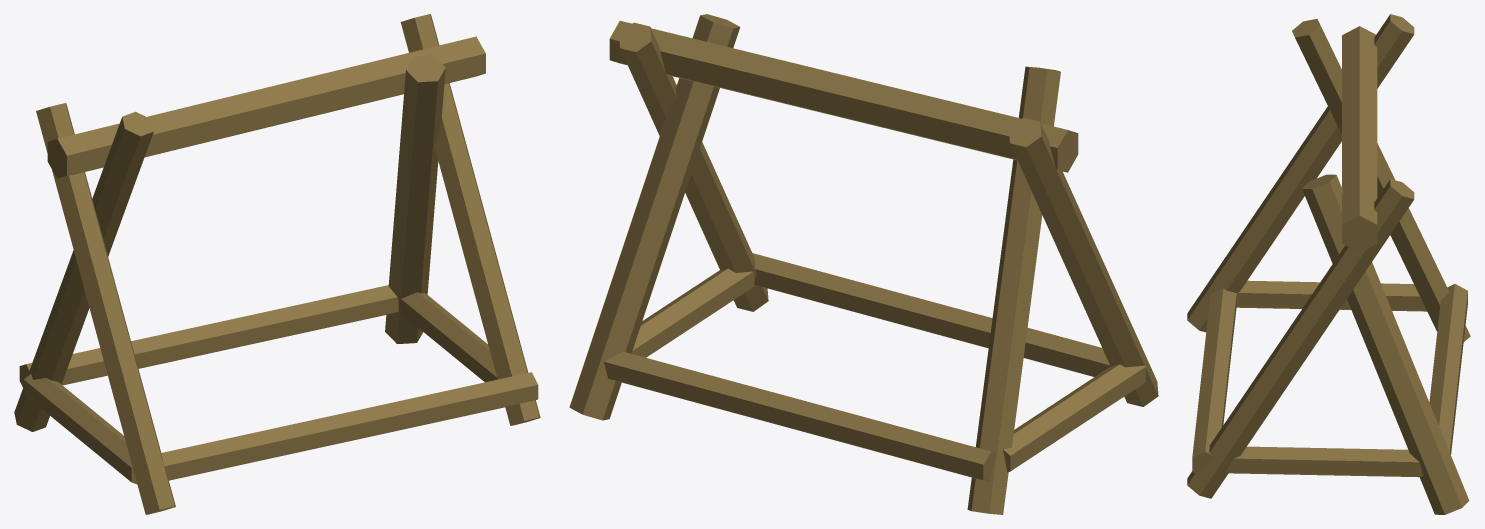
Rendered from tent_unfinished.glb.
3 views of the same model, side by side, from view 1: azimuth 30°, elevation 25°; view 2: azimuth 150°, elevation 25°; view 3: azimuth 270°, elevation 25° (orthographic). The views are drawn at different scales.
Visible parts, largest first — view 1: Cylinder.011, Cylinder.009, Cylinder.014, Cylinder.010, Cylinder.012, Cylinder.015, Cylinder.004, Cylinder.013, Cylinder.008; view 2: Cylinder.011, Cylinder.012, Cylinder.004, Cylinder.015, Cylinder.009, Cylinder.014, Cylinder.010, Cylinder.013, Cylinder.008; view 3: Cylinder.012, Cylinder.010, Cylinder.009, Cylinder.011, Cylinder.004, Cylinder.008, Cylinder.014, Cylinder.015, Cylinder.013.
Part boxes in pixels (x1,y1,x2,y2): Cylinder.011: (47,36,485,178); Cylinder.009: (36,103,175,514); Cylinder.014: (161,372,538,480); Cylinder.010: (400,14,540,425); Cylinder.012: (385,55,445,343); Cylinder.015: (19,285,398,387); Cylinder.004: (14,111,153,431); Cylinder.013: (24,374,137,484); Cylinder.008: (398,292,497,382); Cylinder.011: (609,20,1078,172); Cylinder.012: (569,14,740,420); Cylinder.004: (967,66,1060,514); Cylinder.015: (604,351,996,482); Cylinder.009: (1009,118,1158,406); Cylinder.014: (752,253,1110,376); Cylinder.010: (619,22,768,311); Cylinder.013: (1003,364,1145,472); Cylinder.008: (631,268,754,357); Cylinder.012: (1302,174,1469,514); Cylinder.010: (1187,179,1414,498); Cylinder.009: (1187,14,1414,332); Cylinder.011: (1342,26,1377,252); Cylinder.004: (1292,19,1470,341); Cylinder.008: (1225,446,1423,477); Cylinder.014: (1192,288,1236,474); Cylinder.015: (1429,284,1467,454); Cylinder.013: (1236,280,1426,311).
Size of the model in its own units: 14.4 by 11.83 by 9.1.
